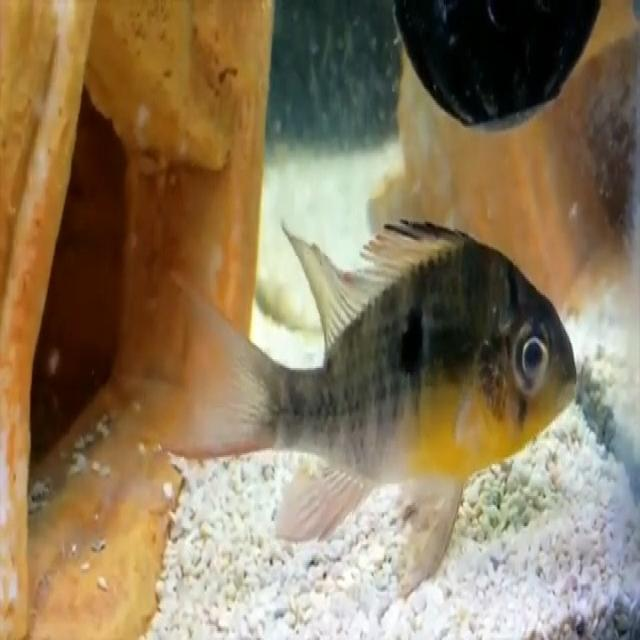fish: (163, 211, 582, 585)
